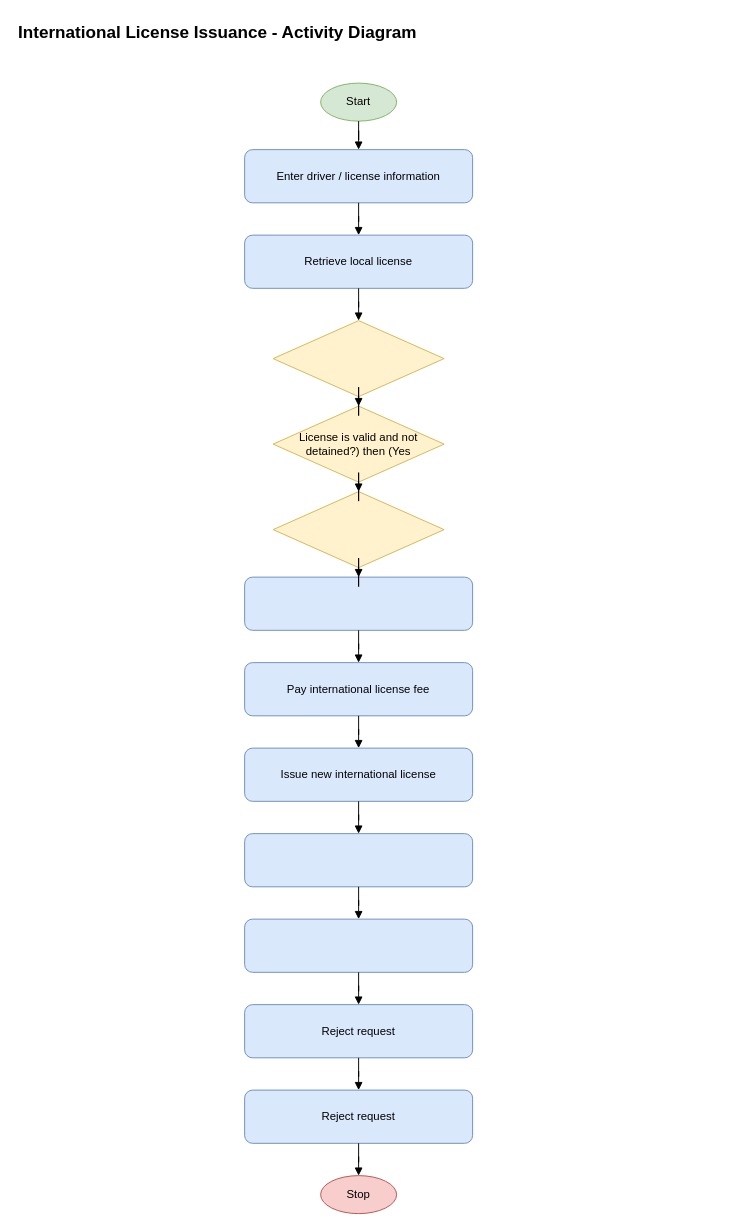
Image size: 754x1230. Some labels were removed from this diagram. The centre of each missing label's shape, as x and y in pixels:
"Active international license exists?) then (Yes" belongs at (x=358, y=529).
"Cancel existing active international license" belongs at (x=358, y=603).
"Display confirmation" belongs at (x=358, y=945).
"License is Class 3?) then (Yes" belongs at (x=358, y=358).
"Save international license record" belongs at (x=358, y=860).
